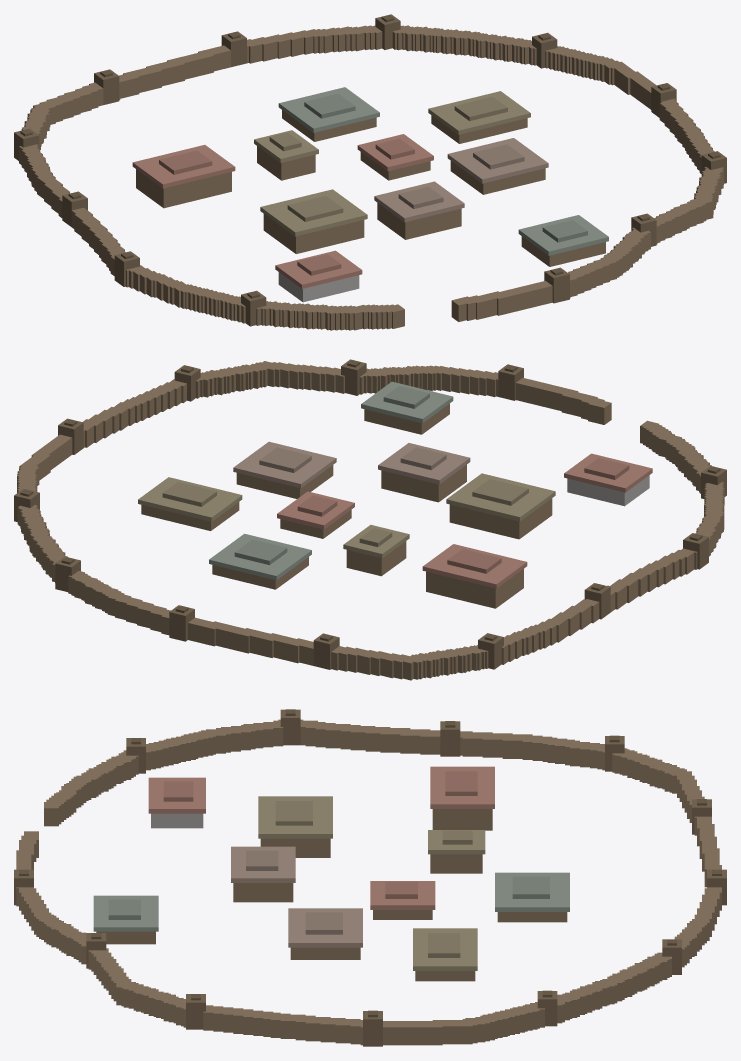
The model's file is ciudad_poblado_orco_poi_3145_375_01.glb.
3 views of the same model, one above another, from view 1: azimuth 30°, elevation 25°; view 2: azimuth 150°, elevation 25°; view 3: azimuth 270°, elevation 25° (orthographic). The views are drawn at different scales.
Visible parts, largest first — view 1: ciudad_poblado_orco_poi_3145_375; view 2: ciudad_poblado_orco_poi_3145_375; view 3: ciudad_poblado_orco_poi_3145_375.
Part boxes in pixels (left/top/right/bottom): ciudad_poblado_orco_poi_3145_375: left=14, top=14, right=726, bottom=330; ciudad_poblado_orco_poi_3145_375: left=14, top=359, right=726, bottom=680; ciudad_poblado_orco_poi_3145_375: left=14, top=709, right=726, bottom=1046.
Bounding box in the file's own units: 73.5 × 3.5 × 71.5.
